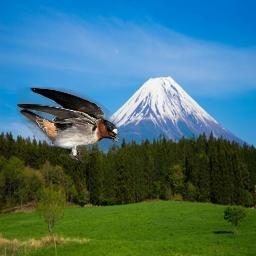Swallow: (17, 87, 119, 163)
